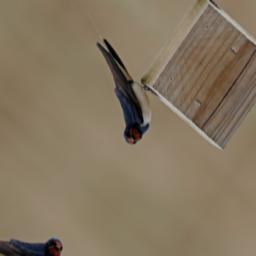Swallow: (42, 8, 178, 152)
